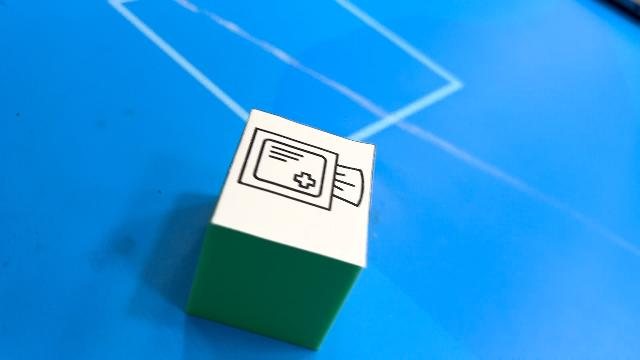napkin: (184, 106, 378, 352)
